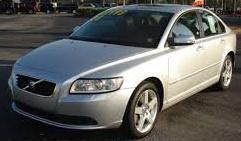Cars: (9, 5, 237, 138)
